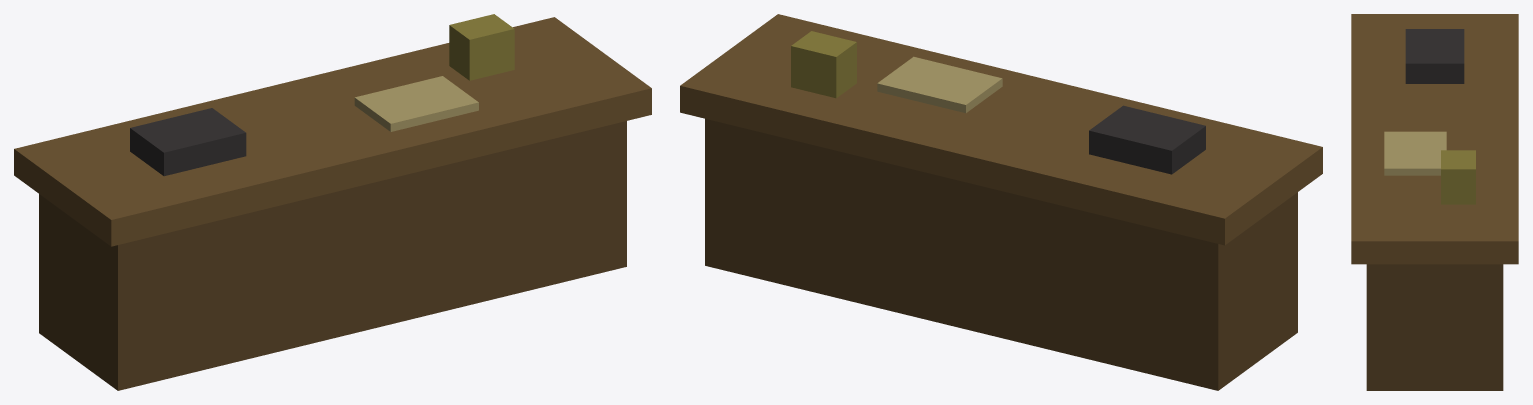
The model's file is bank_counter.glb.
3 renders of one model, left to right at view 1: azimuth 30°, elevation 25°; view 2: azimuth 150°, elevation 25°; view 3: azimuth 270°, elevation 25°, orthographic. The views are drawn at different scales.
Parts seen in each view (by area): view 1: bank_counter; view 2: bank_counter; view 3: bank_counter.
Boxes of the visible parts, x1,y1,x2,y2 form: bank_counter: (14,14,651,390); bank_counter: (680,14,1322,390); bank_counter: (1351,14,1518,390).
Size of the model in its own units: 2.76 by 1.09 by 0.86.
